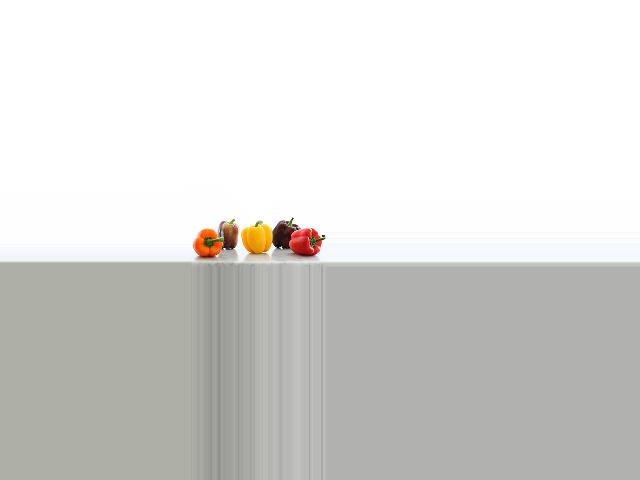bell_pepper: (192, 218, 224, 260)
